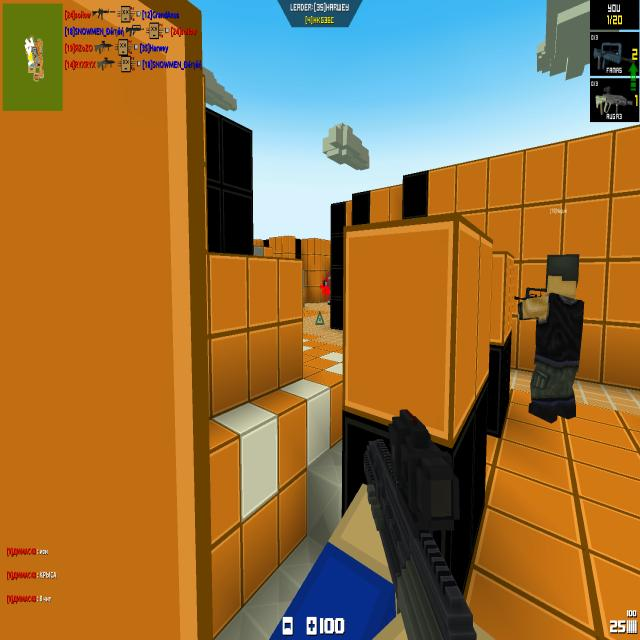enemy: (323, 270, 332, 306)
